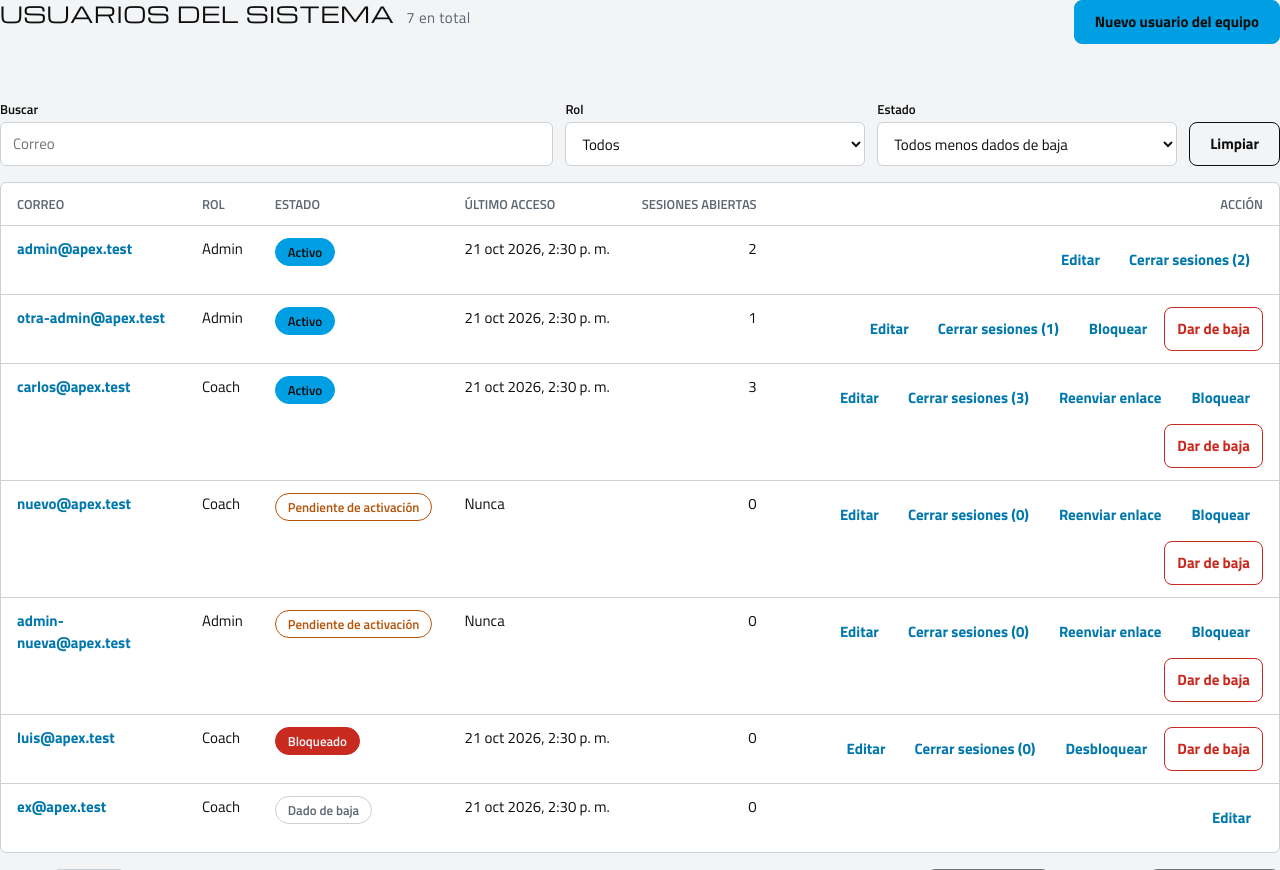
UsersPage · dar de baja (US-050) › 409 last_admin se muestra como mensaje general y el modal sigue abierto
Click the button "Dar de baja" in the row of "otra-admin@apex.test" at (1214, 329), box [1164,307,1263,351]
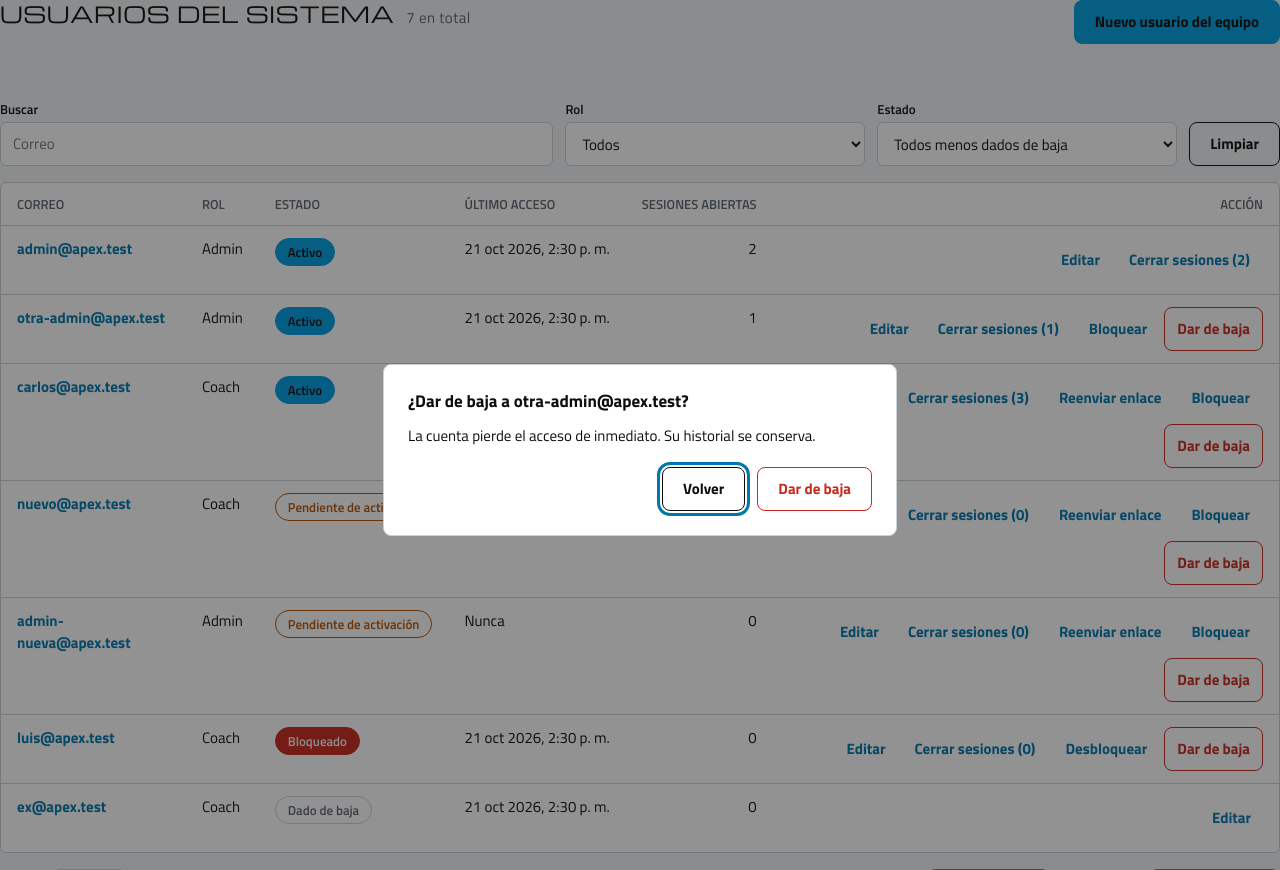
Click the button "Dar de baja" at (815, 489), box [757,467,872,511]
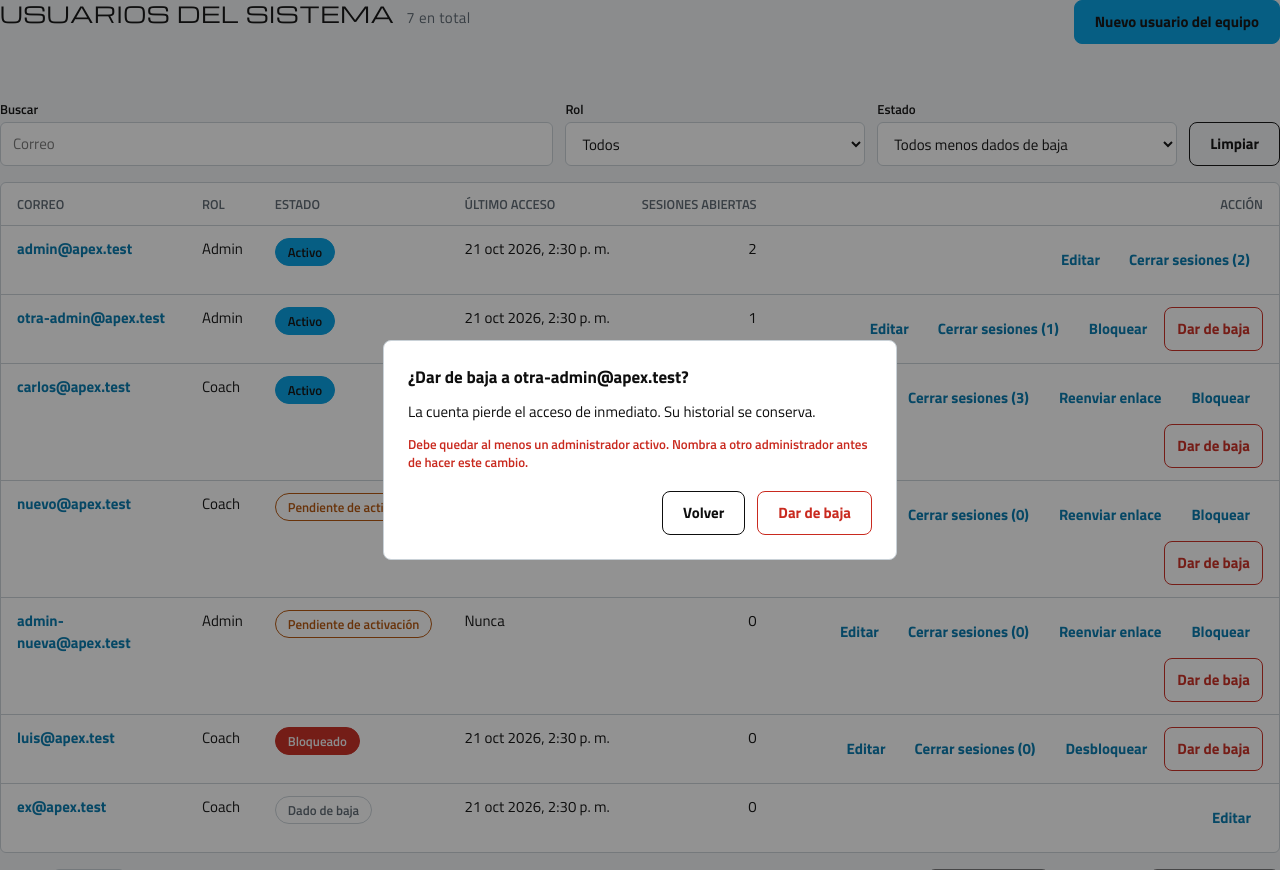
Result: the dialog is shown at [383,340,897,560]
Result: the message shows "Debe quedar al menos un administrador activo. Nombra a otro administrador antes de hacer este cambio." at [408,434,868,472]
